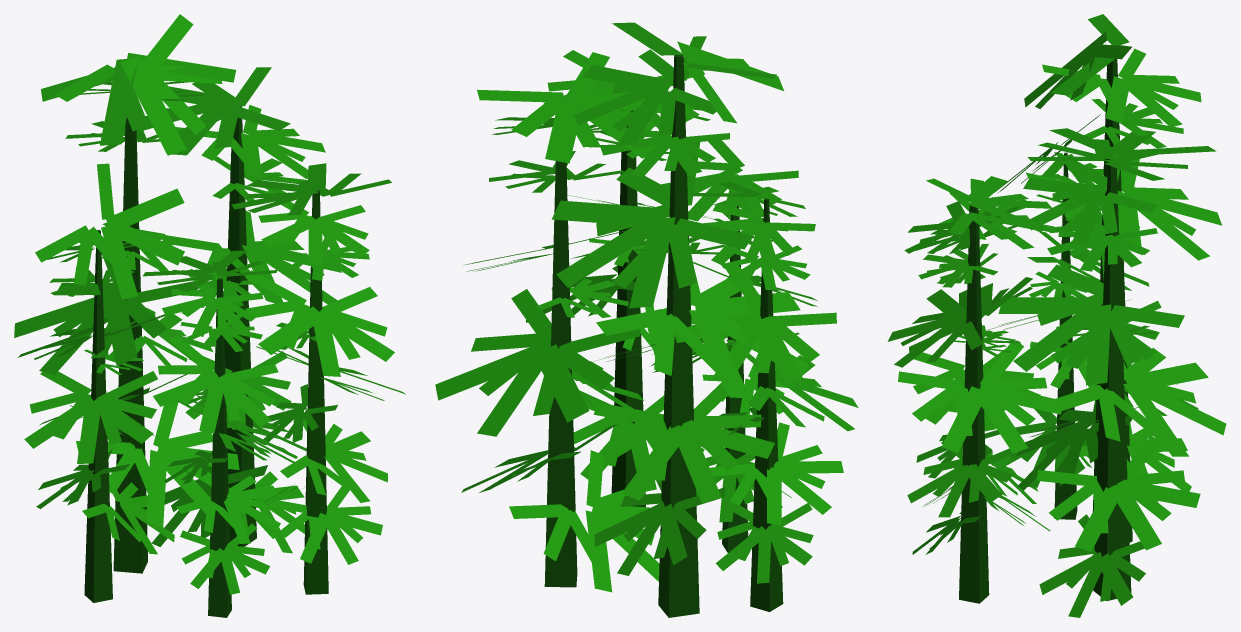
Rendered from Bamboo-transformed.glb.
3 renders of one model, left to right at view 1: azimuth 30°, elevation 25°; view 2: azimuth 150°, elevation 25°; view 3: azimuth 270°, elevation 25°, orthographic. The views are drawn at different scales.
Parts seen in each view (by area): view 1: BlackBamboo; view 2: BlackBamboo; view 3: BlackBamboo.
Part boxes in pixels (x1=…): BlackBamboo: x1=14, y1=14, x2=405, y2=617; BlackBamboo: x1=435, y1=22, x2=858, y2=617; BlackBamboo: x1=887, y1=14, x2=1226, y2=617.
Bounding box in the file's own units: 7.06 × 10.85 × 6.37.
